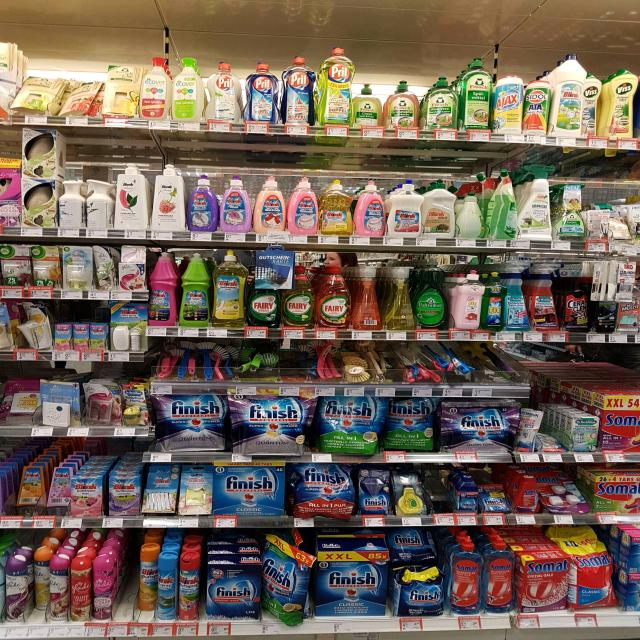empty: (110, 536, 140, 621)
